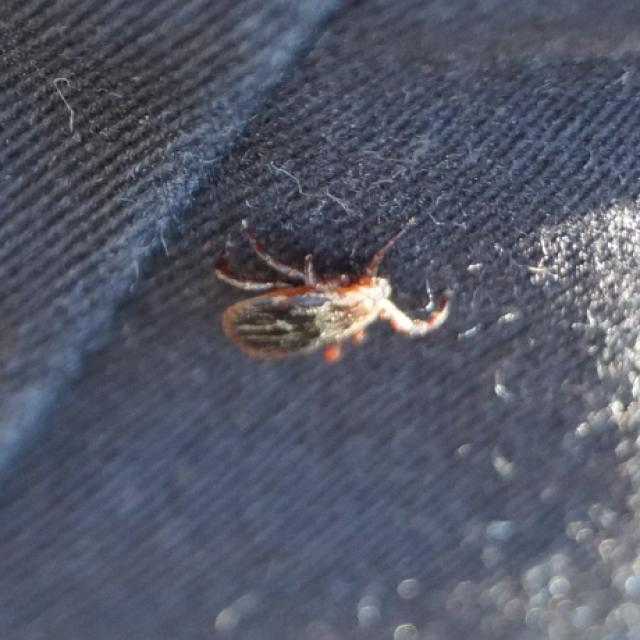Dermacentor Reticulatus-M: (214, 230, 449, 365)
